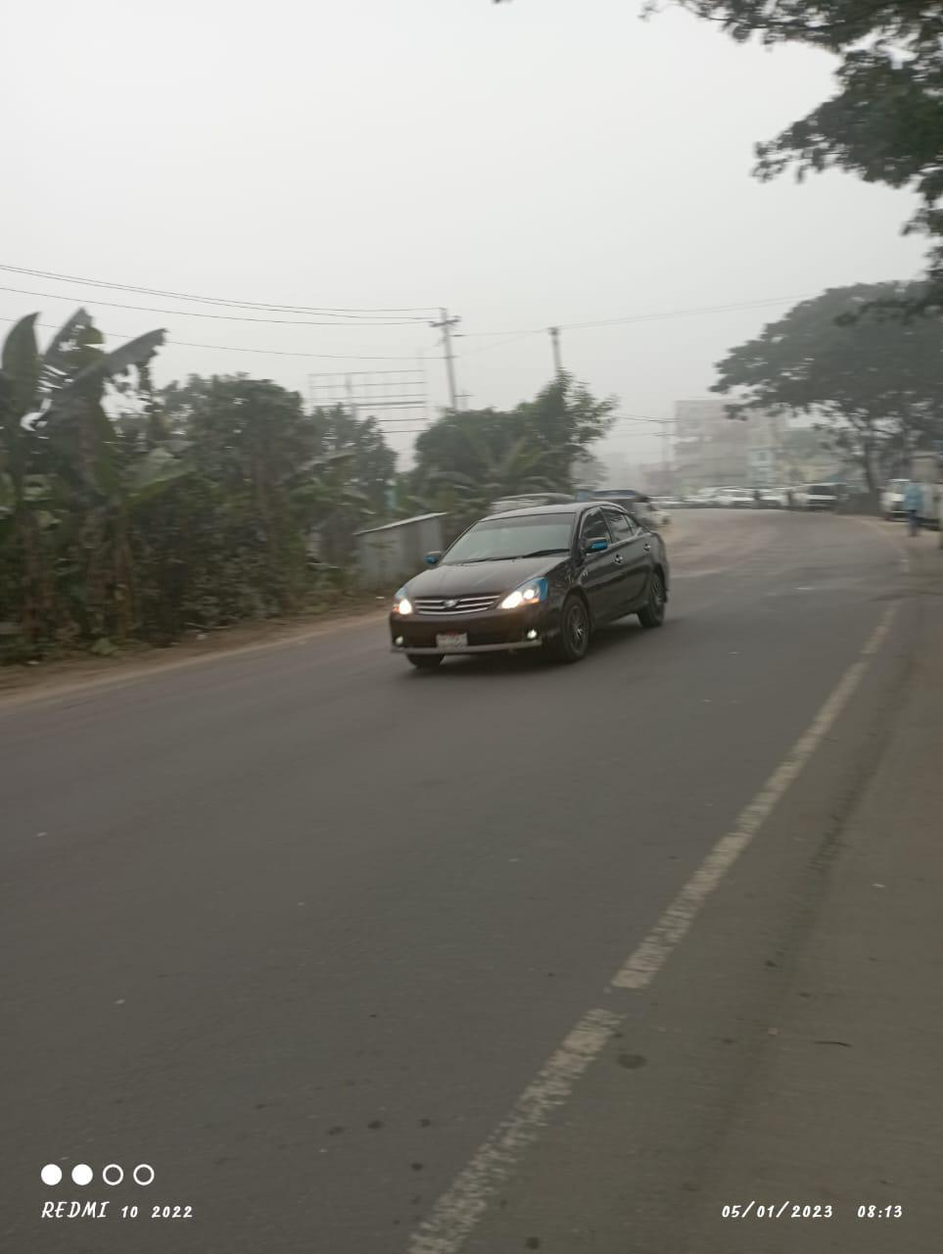Car: (374, 491, 676, 655)
